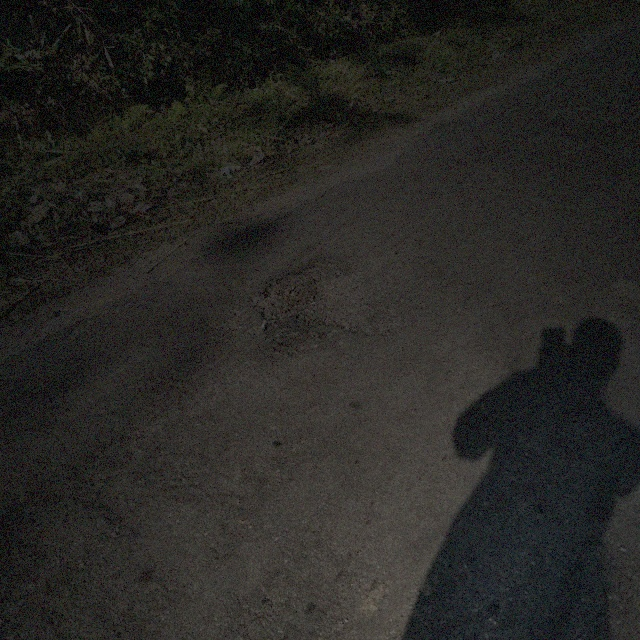pothole: (249, 256, 372, 340)
